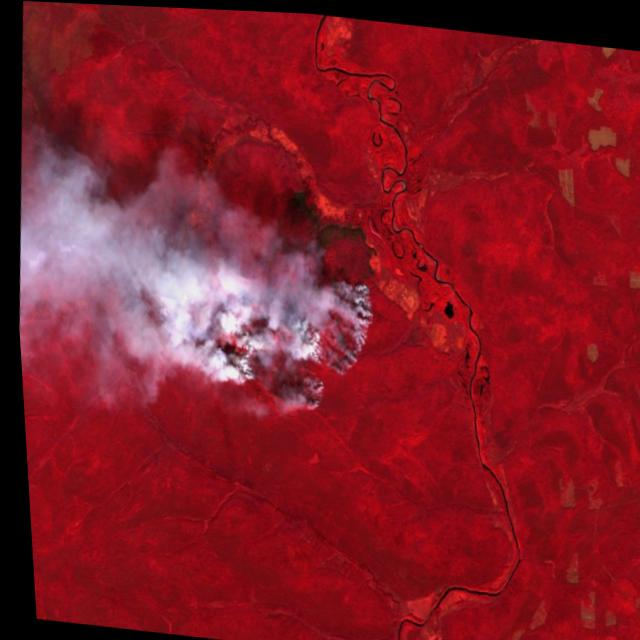fire: (214, 251, 383, 420)
